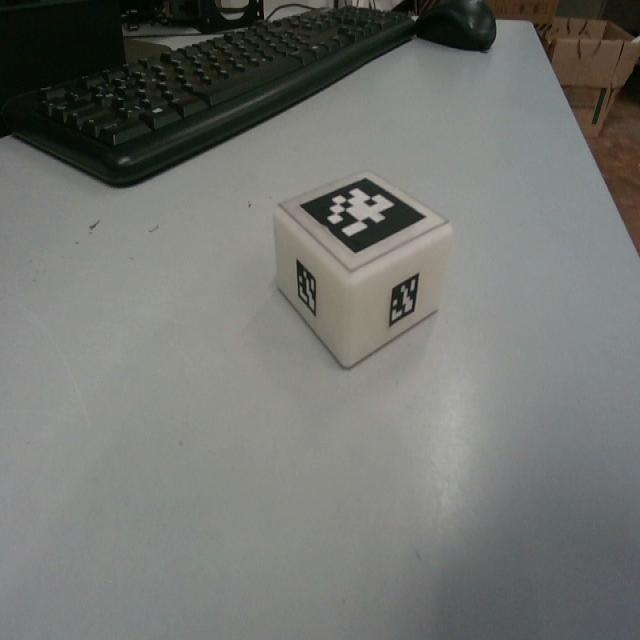Cube: (272, 168, 453, 368)
